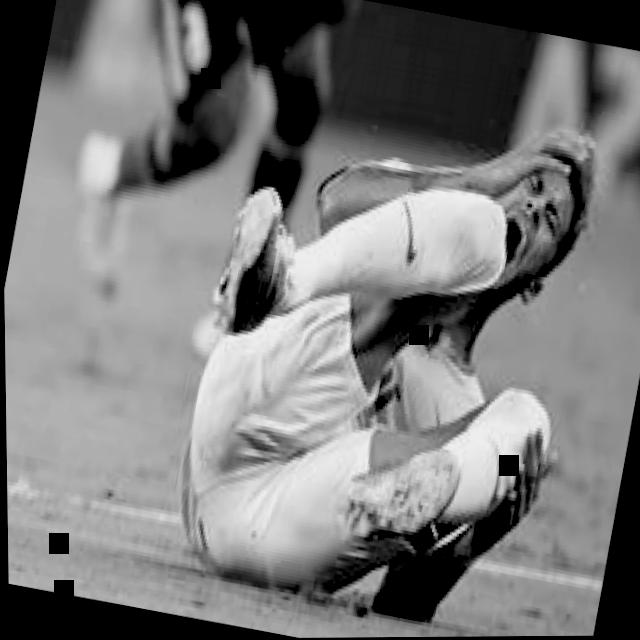Fall-Detected: (148, 13, 640, 639)
